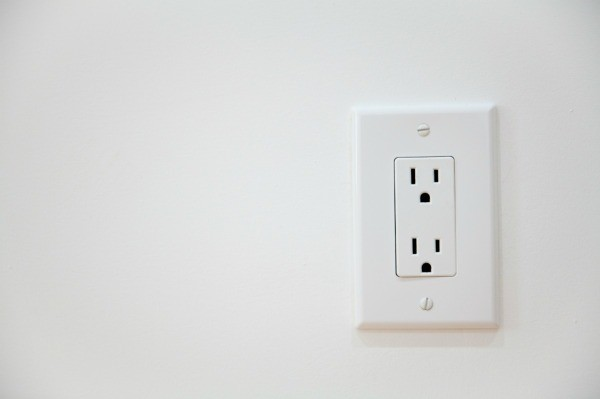outlet: (405, 164, 444, 206), (408, 235, 446, 274)
